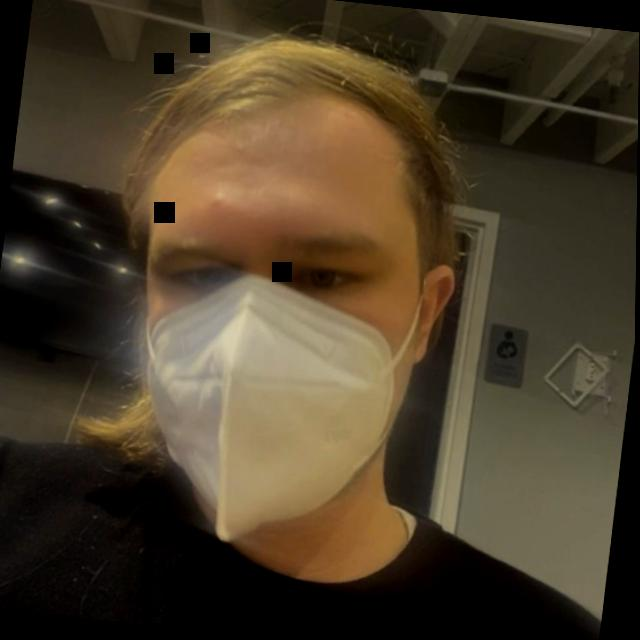Mask: (60, 13, 542, 616)
